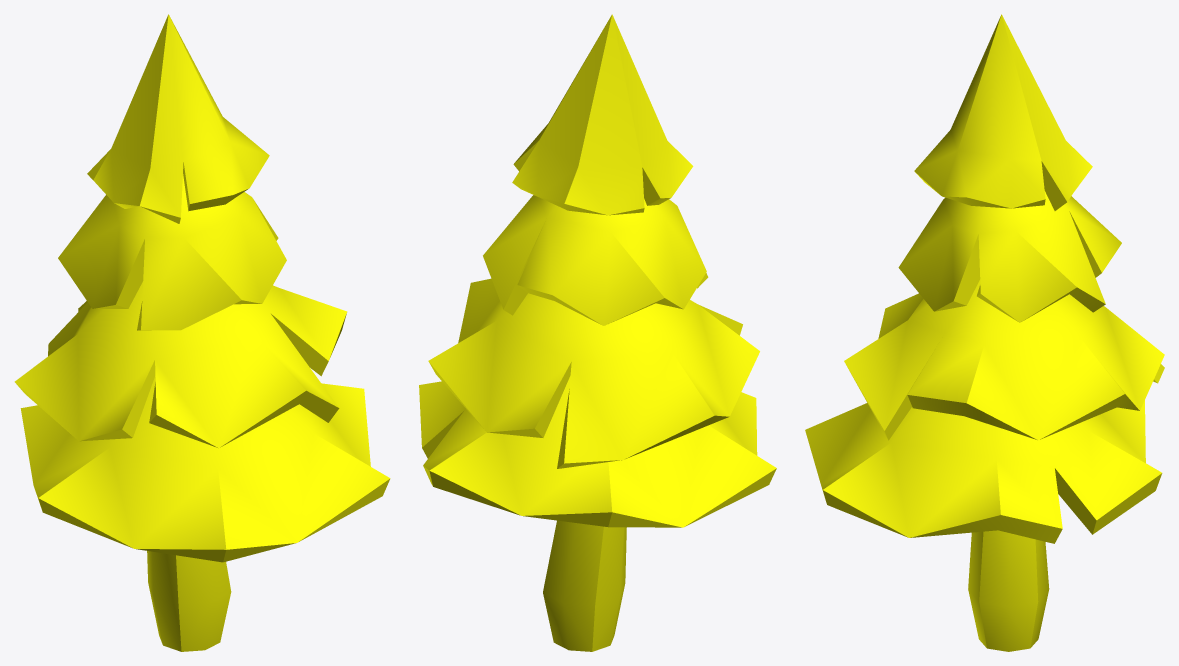
File: kaykit-tree-pine-yellow-medium.glb
3 renders of one model, left to right at view 1: azimuth 30°, elevation 25°; view 2: azimuth 150°, elevation 25°; view 3: azimuth 270°, elevation 25°, orthographic. The views are drawn at different scales.
Visible parts, largest first — view 1: tree_pine_yellow_medium; view 2: tree_pine_yellow_medium; view 3: tree_pine_yellow_medium.
Boxes of the visible parts, x1,y1,x2,y2 form: tree_pine_yellow_medium: (14,14,390,651); tree_pine_yellow_medium: (419,14,776,651); tree_pine_yellow_medium: (805,14,1164,651).
Bounding box in the file's own units: 3.33 × 5.87 × 3.12.
